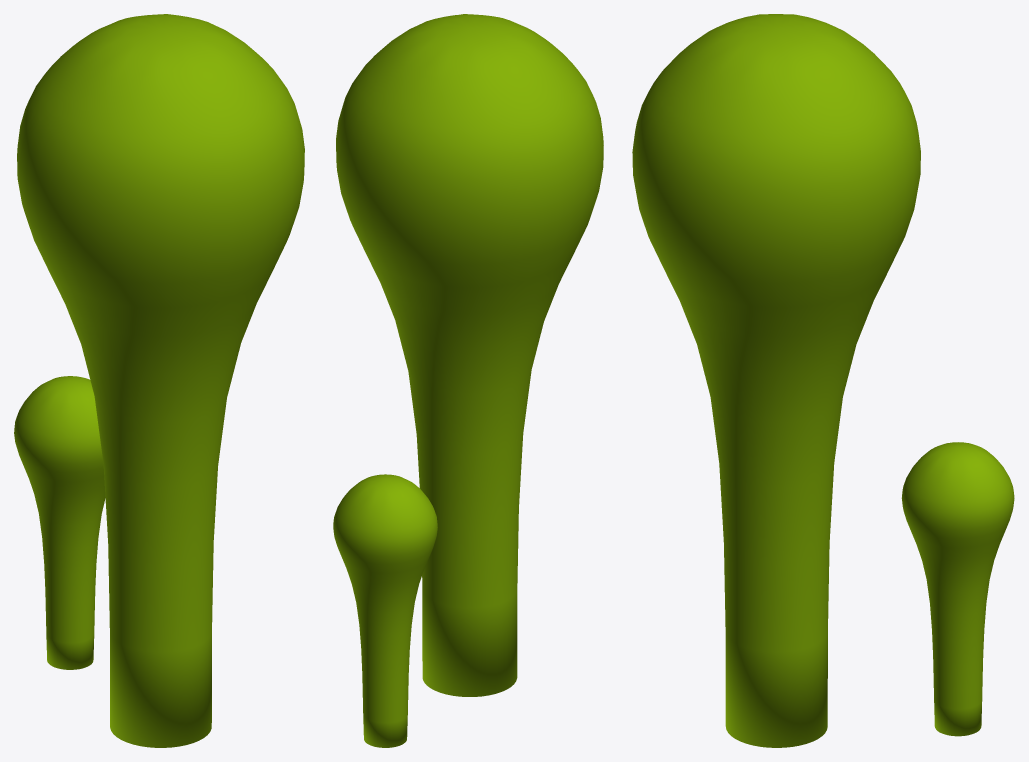
Rendered from l_drzewo_male_4.fbx.
3 renders of one model, left to right at view 1: azimuth 30°, elevation 25°; view 2: azimuth 150°, elevation 25°; view 3: azimuth 270°, elevation 25°, orthographic. The views are drawn at different scales.
Parts seen in each view (by area): view 1: roslinka1.001; view 2: roslinka1.001; view 3: roslinka1.001.
Part boxes in pixels (left/top/right/bottom): roslinka1.001: left=14, top=14, right=304, bottom=747; roslinka1.001: left=333, top=14, right=603, bottom=747; roslinka1.001: left=632, top=14, right=1014, bottom=747.
Size of the model in its own units: 73.69 by 197 by 97.61.
